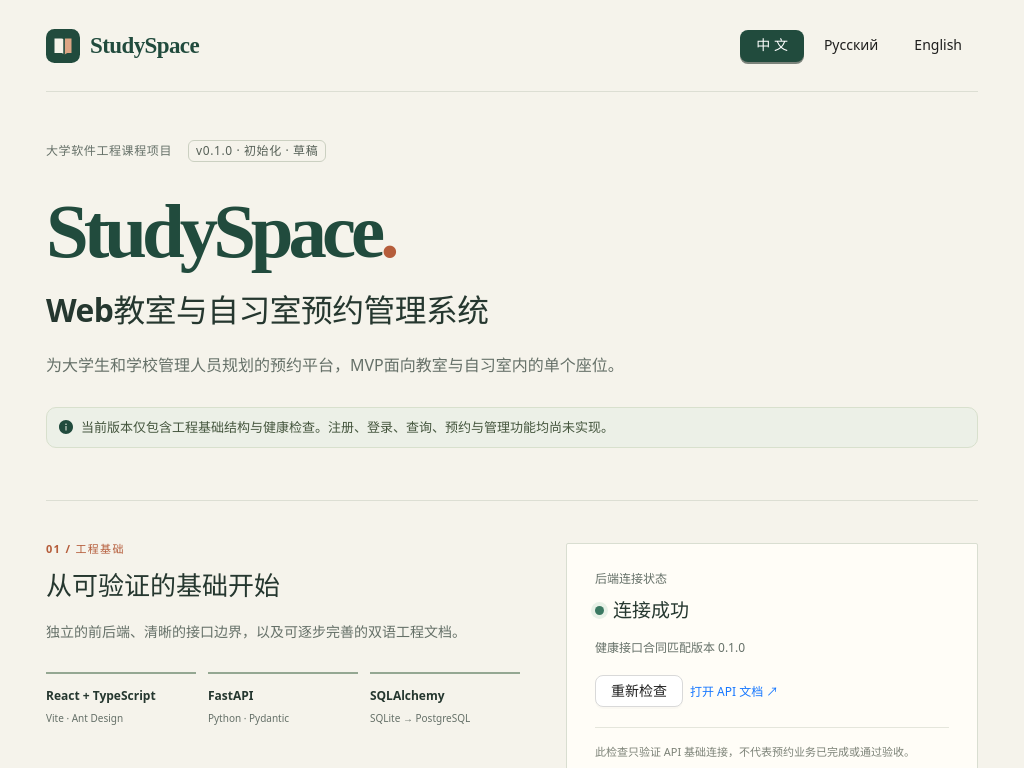
Scenario: initialization page › presents the clarified seat scope and honest implementation status in Русский
expect the text "连接成功" is shown: met, box [613,600,689,621]
Click the button "Русский". click: {"x": 851, "y": 46}
box: [808,30,894,62]
(page scrolled)
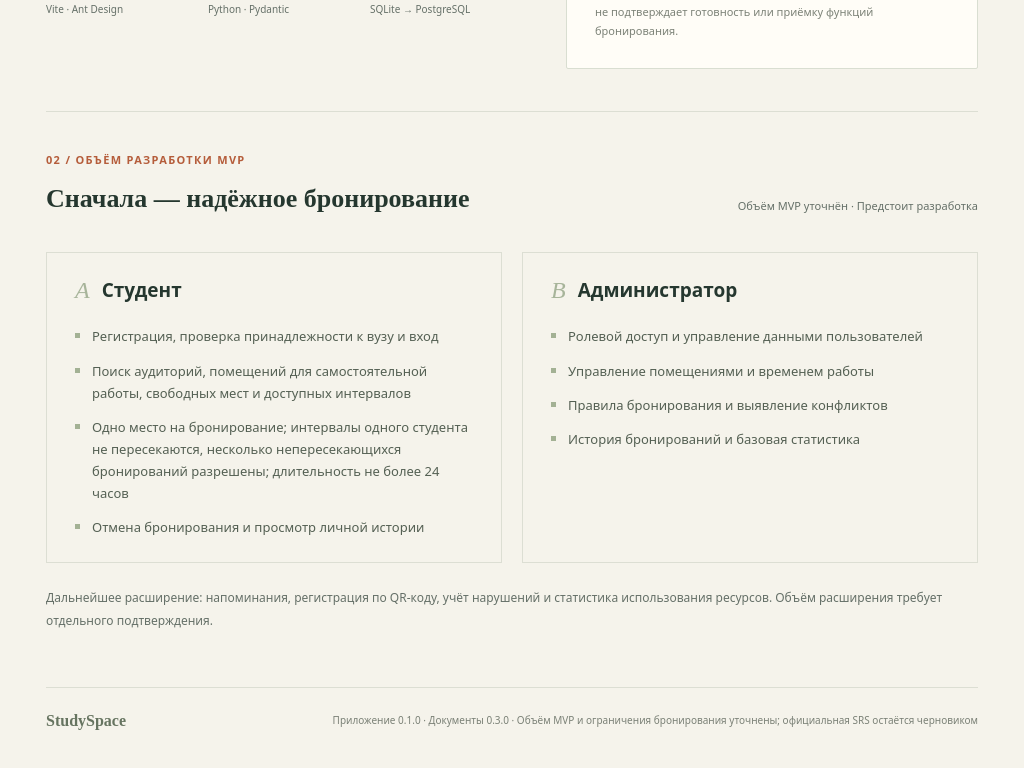
expect the list item "Регистрация, проверка принадлежности к вузу и вход" is shown: met, box [75,326,473,348]
expect the list item "Одно место на бронирование; интервалы одного студента не пересекаются, несколько непересекающихся бронирований разрешены" is shown: met, box [92,418,468,502]
expect the text "Дальнейшее расширение: напоминания, регистрация по QR-коду, учёт нарушений и статистика использования ресурсов" is shown: met, box [46,589,942,629]
